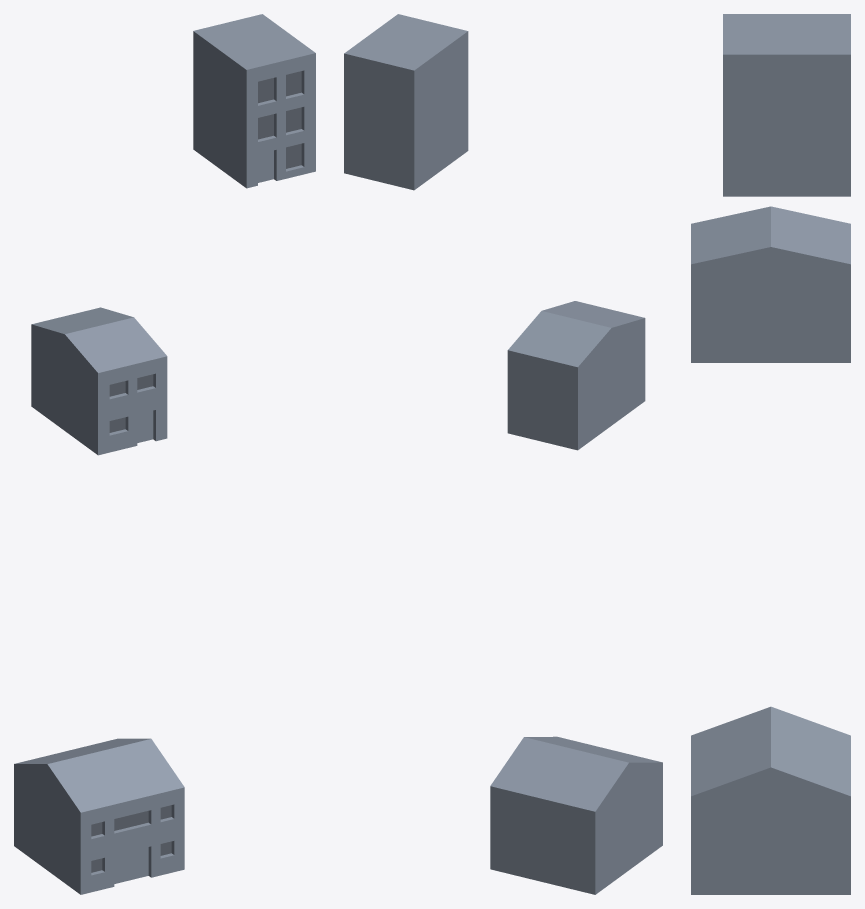
Rendered from Penceregrup5.gltf.
The picture shows the model from 3 angles, left to right: view 1: azimuth 30°, elevation 25°; view 2: azimuth 150°, elevation 25°; view 3: azimuth 270°, elevation 25°; orthographic projection. The views are drawn at different scales.
Parts seen in each view (by area): view 1: Building_075.003, Building_079.003, Building_073.003, Building_079.005, Building_075.005, Building_075.004, Building_073.005; view 2: Building_075.003, Building_079.003, Building_073.003; view 3: Building_075.003, Building_073.003, Building_079.003.
Part boxes in pixels (x1=…): Building_075.003: x1=14, y1=738, x2=184, y2=894; Building_079.003: x1=193, y1=14, x2=315, y2=188; Building_073.003: x1=31, y1=307, x2=167, y2=455; Building_079.005: x1=258, y1=71, x2=301, y2=168; Building_075.005: x1=91, y1=805, x2=171, y2=872; Building_075.004: x1=114, y1=847, x2=148, y2=883; Building_073.005: x1=109, y1=374, x2=153, y2=432; Building_075.003: x1=490, y1=736, x2=662, y2=894; Building_079.003: x1=344, y1=14, x2=468, y2=190; Building_073.003: x1=507, y1=301, x2=645, y2=450; Building_075.003: x1=691, y1=706, x2=850, y2=894; Building_073.003: x1=691, y1=206, x2=850, y2=362; Building_079.003: x1=723, y1=14, x2=850, y2=196.
Bounding box in the file's own units: 0.1168 × 0.3467 × 0.0543.
